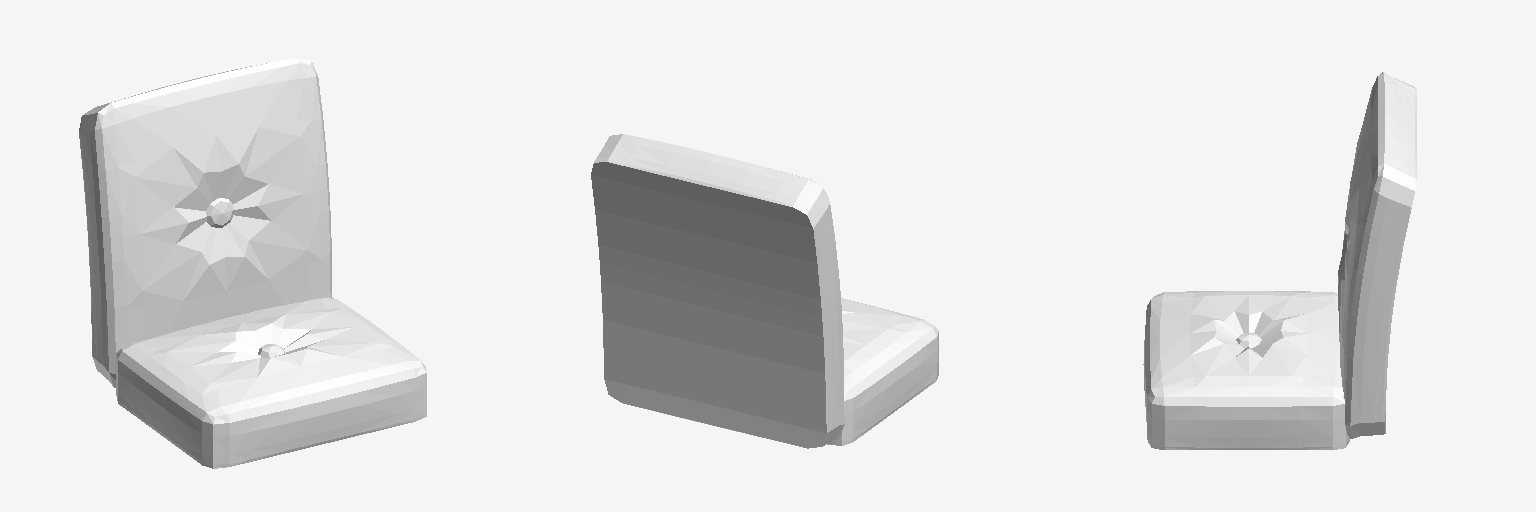
Rendered from classic_chair_middle_seat.obj.
3 renders of one model, left to right at view 1: azimuth 30°, elevation 25°; view 2: azimuth 150°, elevation 25°; view 3: azimuth 270°, elevation 25°, orthographic.
Parts seen in each view (by area): view 1: classic_chair_middle_seat; view 2: classic_chair_middle_seat; view 3: classic_chair_middle_seat.
Boxes of the visible parts, box(x1,y1,x2,y2) form: classic_chair_middle_seat: box(79, 58, 426, 468); classic_chair_middle_seat: box(591, 134, 938, 448); classic_chair_middle_seat: box(1143, 72, 1416, 449).
Size of the model in its own units: 99.73 by 117 by 104.